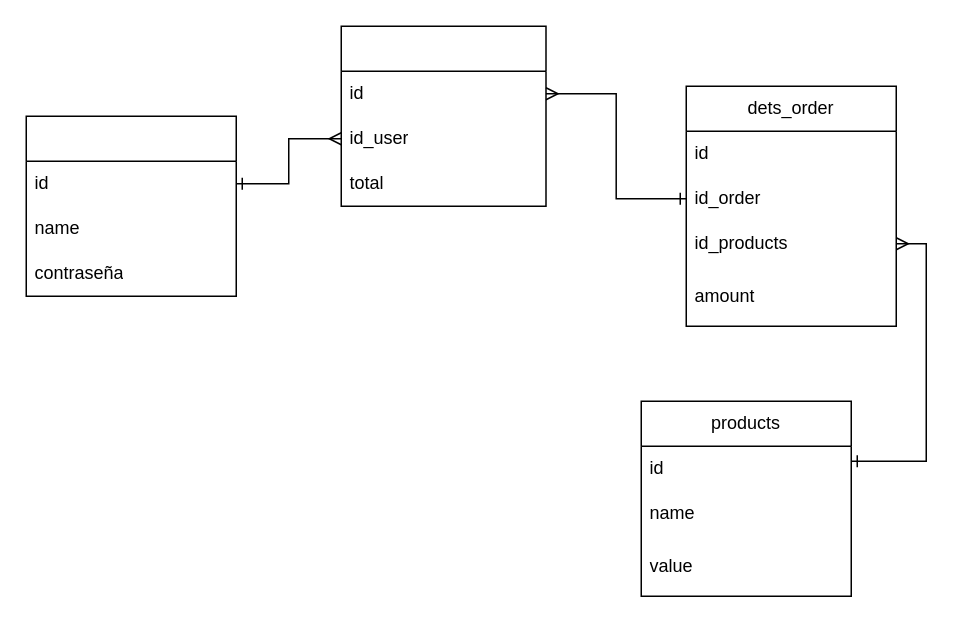
Some shapes in this 966 by 623 pixel diagram are drawn without their labels. Here are the shapes that lost their labels. From the top down, the box of each, then its label:
(340, 25, 546, 206): orders
(25, 115, 236, 296): users
